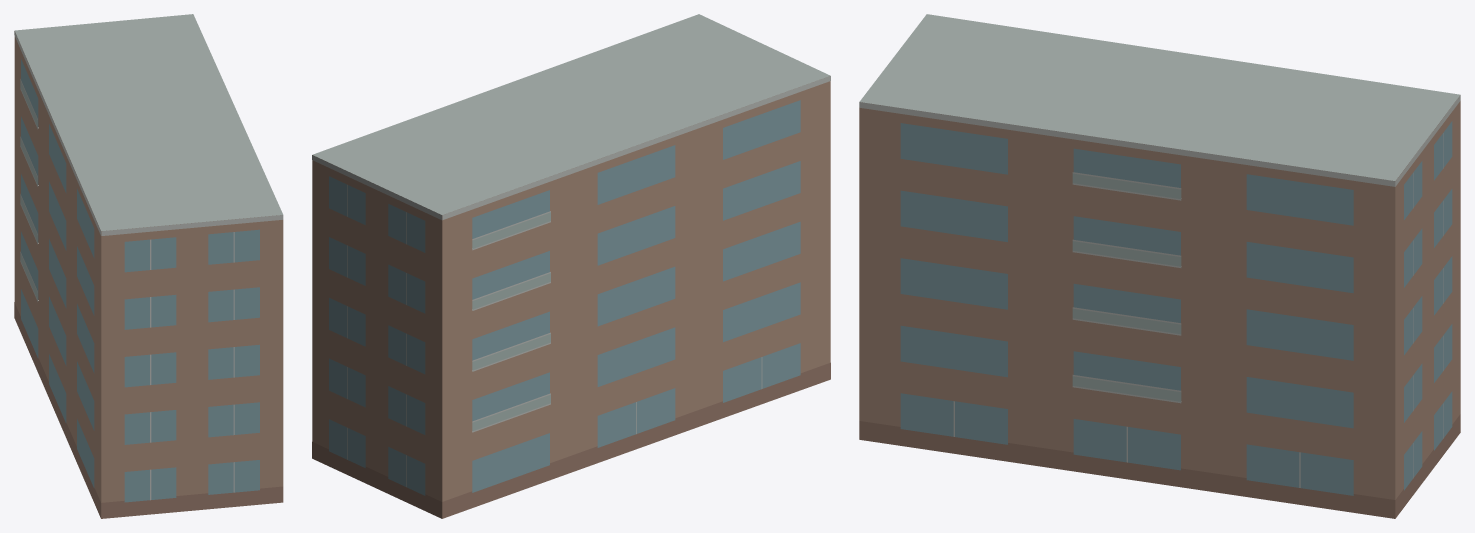
File: survey-upis-32875851.glb
3 renders of one model, left to right at view 1: azimuth 30°, elevation 25°; view 2: azimuth 150°, elevation 25°; view 3: azimuth 270°, elevation 25°, orthographic. The views are drawn at different scales.
Visible parts, largest first — view 1: survey-upis-32875851.tmp; view 2: survey-upis-32875851.tmp; view 3: survey-upis-32875851.tmp.
Boxes of the visible parts, x1=… form: survey-upis-32875851.tmp: x1=14, y1=14, x2=283, y2=518; survey-upis-32875851.tmp: x1=312, y1=14, x2=830, y2=518; survey-upis-32875851.tmp: x1=859, y1=14, x2=1460, y2=518.
Bounding box in the file's own units: 15.08 × 14.2 × 22.92.
